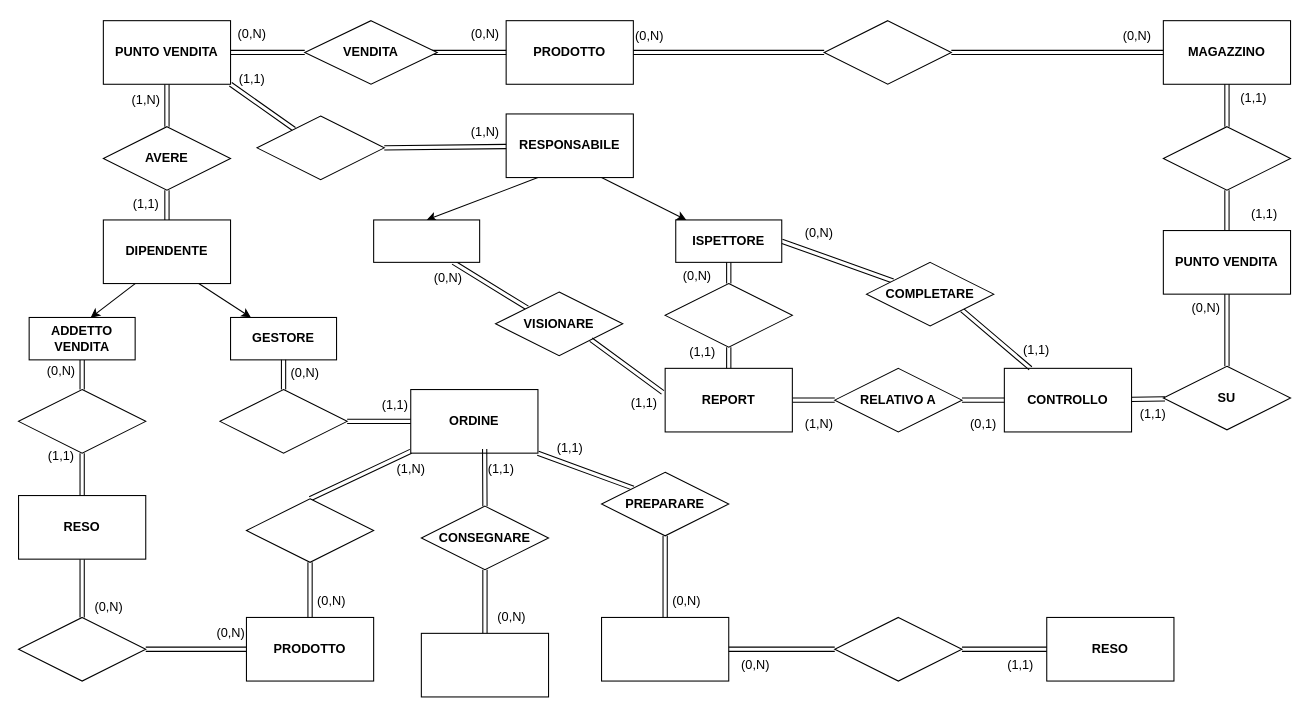
This 1309x715 diagram has some shape labels left out. Each missing label, with the centre of its shape:
CAMIONISTA: (x=484, y=664)
CAPO DIVISIONE: (x=426, y=240)
COMPRENDERE: (x=309, y=530)
COORDINARE: (x=320, y=147)
CORRISPONDERE: (x=81, y=420)
DEPOSITO: (x=664, y=648)
EFFETTUARE: (x=283, y=420)
IN MAGAZZINO: (x=887, y=52)
IN RESO: (x=81, y=648)
POSSEDERE: (x=1226, y=158)
REDIGERE: (x=728, y=314)
RICEVERE: (x=898, y=648)
